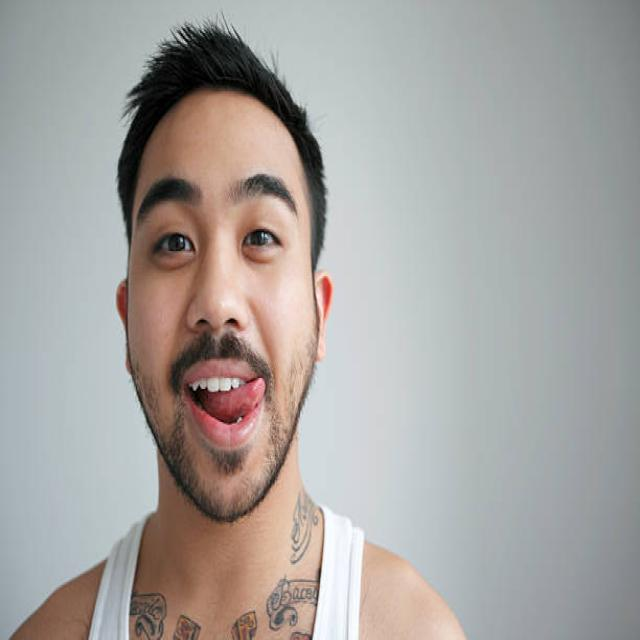tongue: (208, 380, 268, 423)
